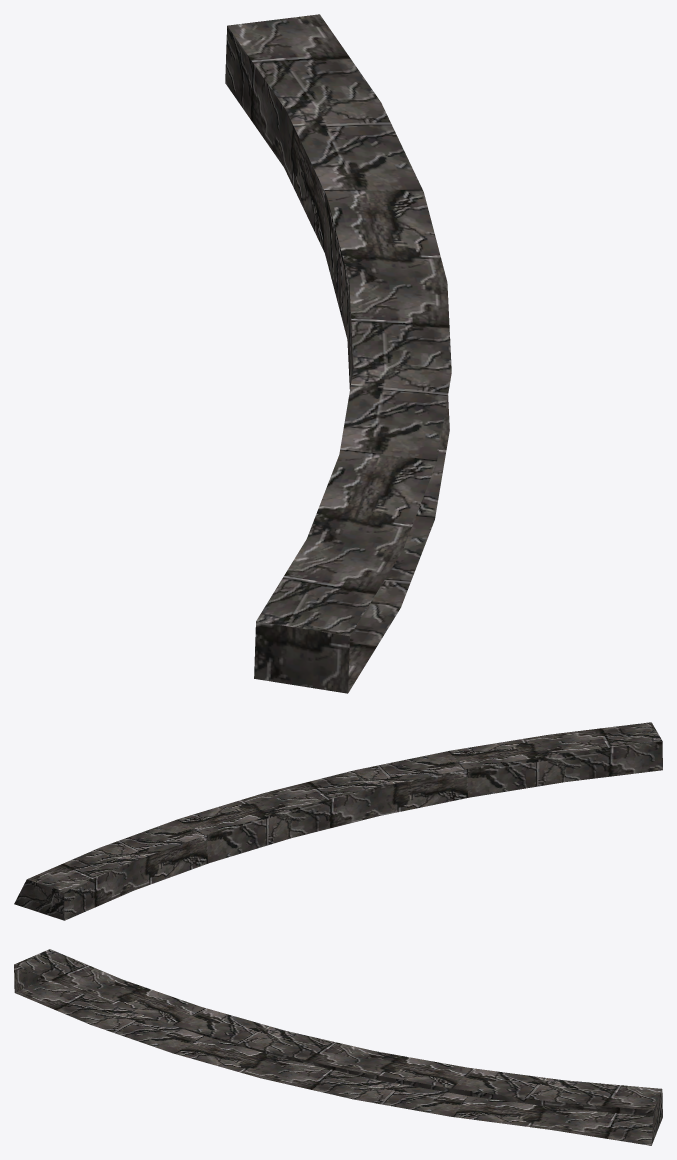
Rendered from CH09_SMAUG_PLAYSURFACE_LAIR72.fbx.
3 views of the same model, one above another, from view 1: azimuth 30°, elevation 25°; view 2: azimuth 150°, elevation 25°; view 3: azimuth 270°, elevation 25° (orthographic). The views are drawn at different scales.
Visible parts, largest first — view 1: CH09_SMAUG_PLAYSURFACE_LAIR72; view 2: CH09_SMAUG_PLAYSURFACE_LAIR72; view 3: CH09_SMAUG_PLAYSURFACE_LAIR72.
Boxes of the visible parts, <box> form: CH09_SMAUG_PLAYSURFACE_LAIR72: <box>225,14,451,693</box>; CH09_SMAUG_PLAYSURFACE_LAIR72: <box>14,722,662,920</box>; CH09_SMAUG_PLAYSURFACE_LAIR72: <box>14,949,662,1145</box>.
Size of the model in its own units: 97417 by 8889 by 157350.
1 material, 1 textured.
